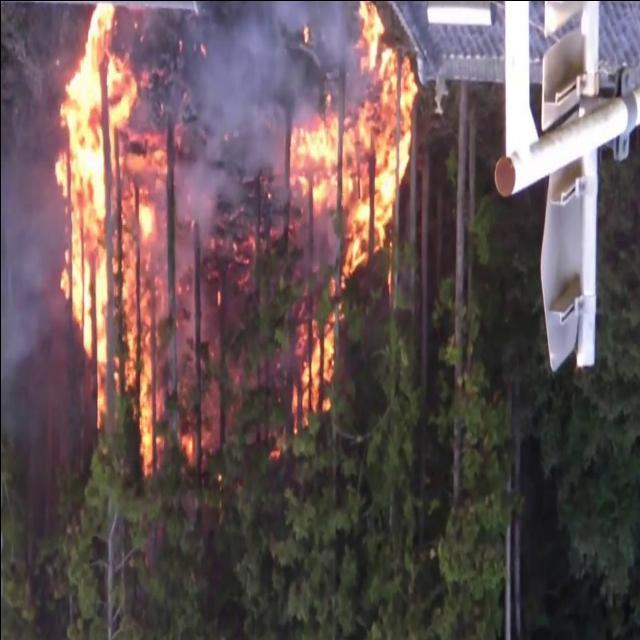Fire: (44, 2, 170, 478), (289, 2, 417, 434), (183, 438, 193, 456)
